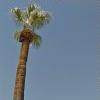Palm tree: (9, 4, 45, 98)
